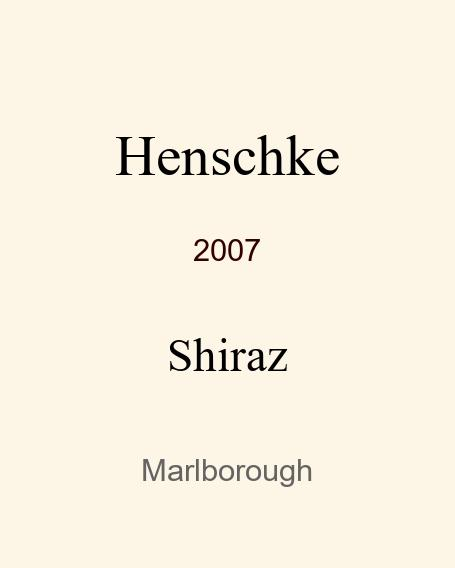brand: (115, 124, 340, 164)
region: (141, 452, 313, 480)
variety: (167, 329, 288, 362)
vintage: (193, 232, 261, 254)
